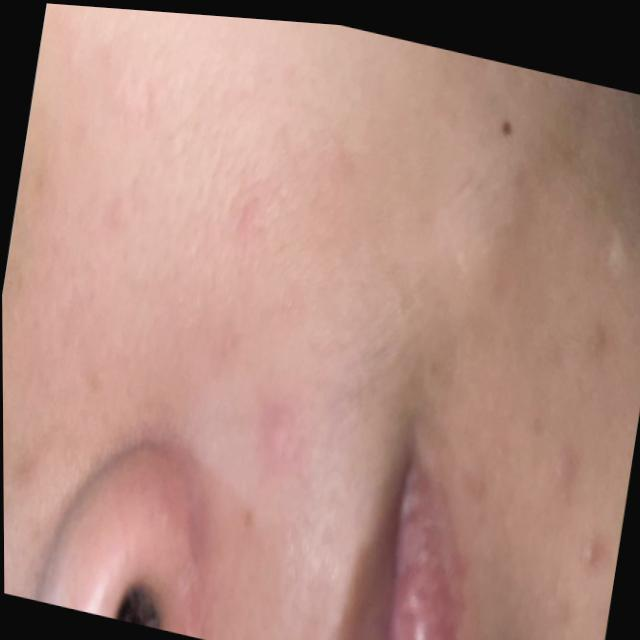papule: (524, 404, 590, 520), (238, 367, 306, 473)
pustule: (552, 517, 618, 563)
